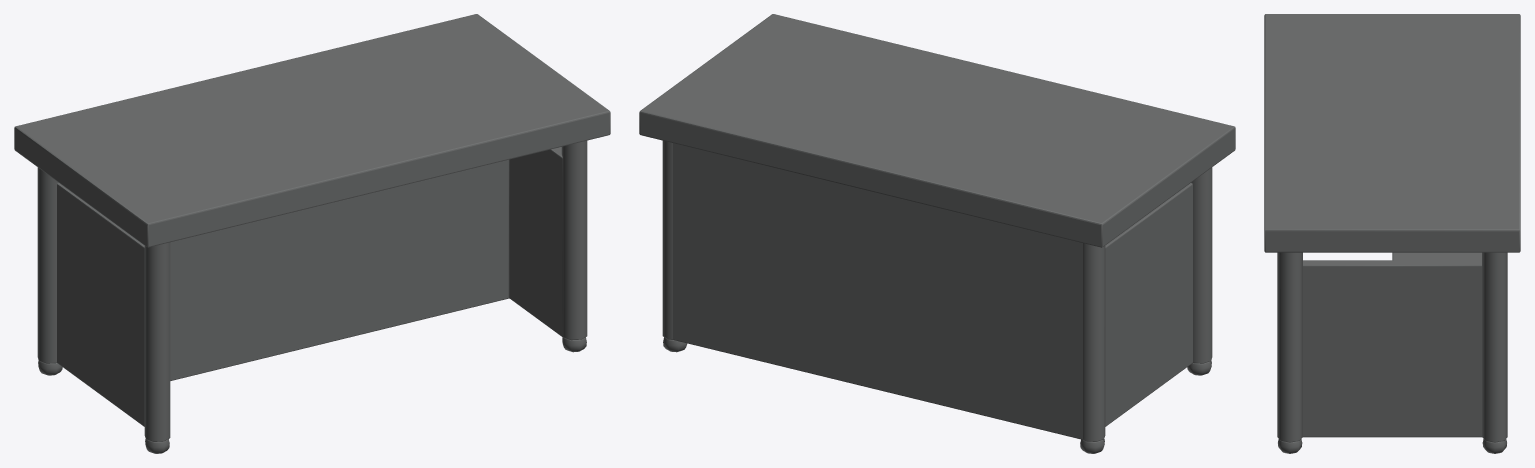
Rendered from SingleWorkstationDesk.fbx.
The picture shows the model from 3 angles, left to right: view 1: azimuth 30°, elevation 25°; view 2: azimuth 150°, elevation 25°; view 3: azimuth 270°, elevation 25°; orthographic projection. The views are drawn at different scales.
Visible parts, largest first — view 1: SingleWorkstationDesk; view 2: SingleWorkstationDesk; view 3: SingleWorkstationDesk.
Boxes of the visible parts, left/top/right/bottom form: SingleWorkstationDesk: left=14, top=14, right=610, bottom=453; SingleWorkstationDesk: left=639, top=14, right=1235, bottom=453; SingleWorkstationDesk: left=1264, top=14, right=1520, bottom=453.
Bounding box in the file's own units: 100 × 50 × 50.
1 material, 1 textured.
